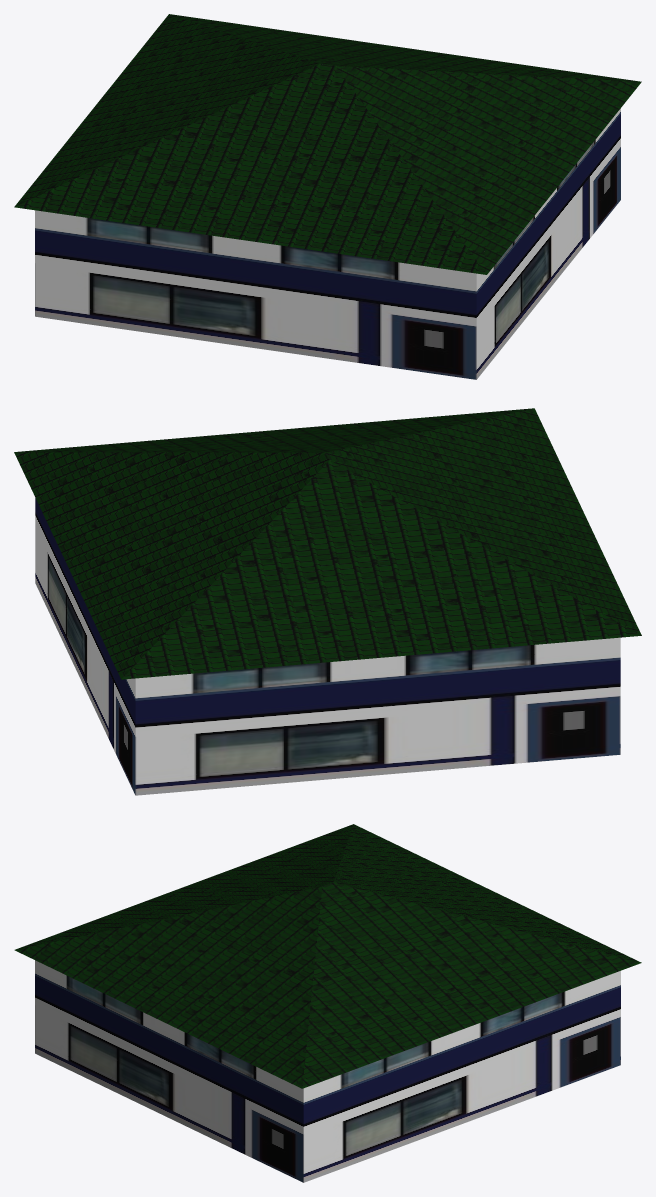
The picture shows the model from 3 angles, top to bottom: view 1: azimuth 30°, elevation 25°; view 2: azimuth 150°, elevation 25°; view 3: azimuth 270°, elevation 25°; orthographic projection. The views are drawn at different scales.
Visible parts, largest first — view 1: CityEngineMaterial_13_m, CityEngineMaterial_2_m; view 2: CityEngineMaterial_13_m, CityEngineMaterial_2_m; view 3: CityEngineMaterial_13_m, CityEngineMaterial_2_m.
Part boxes in pixels (box(x1,y1,x2,y2)): CityEngineMaterial_13_m: box(14, 14, 641, 274); CityEngineMaterial_2_m: box(35, 108, 620, 379); CityEngineMaterial_13_m: box(14, 408, 641, 679); CityEngineMaterial_2_m: box(35, 498, 620, 795); CityEngineMaterial_13_m: box(14, 824, 641, 1088); CityEngineMaterial_2_m: box(35, 960, 620, 1182).
Size of the model in its own units: 39.6 by 12.2 by 39.69.
